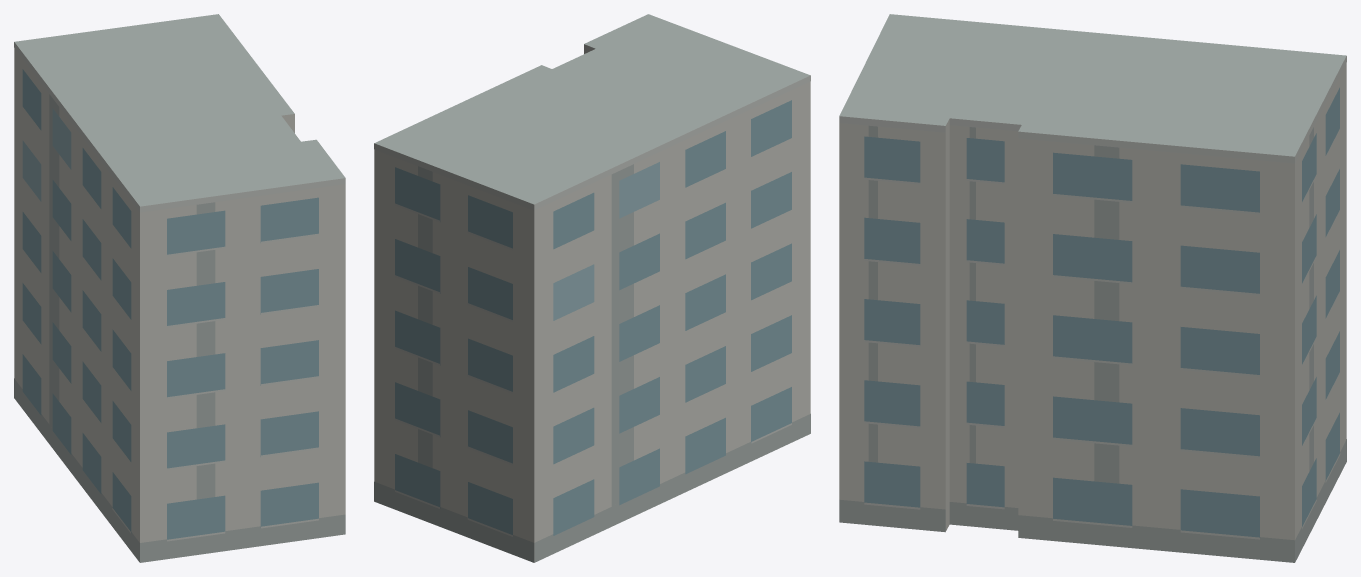
Rendered from survey-upis-32849562.glb.
The picture shows the model from 3 angles, left to right: view 1: azimuth 30°, elevation 25°; view 2: azimuth 150°, elevation 25°; view 3: azimuth 270°, elevation 25°; orthographic projection. The views are drawn at different scales.
Visible parts, largest first — view 1: survey-upis-32849562.tmp; view 2: survey-upis-32849562.tmp; view 3: survey-upis-32849562.tmp.
Boxes of the visible parts, x1=… form: survey-upis-32849562.tmp: x1=14, y1=14, x2=345, y2=562; survey-upis-32849562.tmp: x1=374, y1=14, x2=810, y2=562; survey-upis-32849562.tmp: x1=839, y1=14, x2=1346, y2=562.
Bounding box in the file's own units: 10.86 × 14.4 × 16.31.
